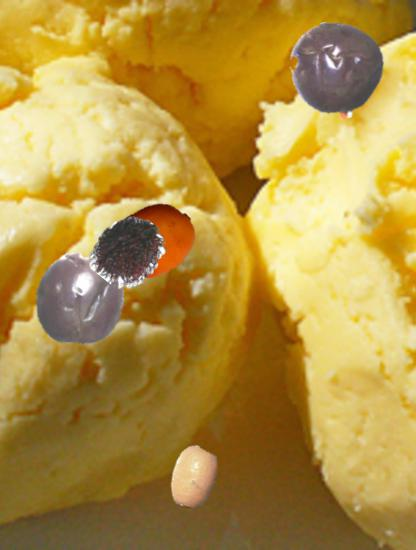Apricot: (114, 199, 196, 281)
Kumquats: (163, 446, 225, 508)
Passion: (289, 20, 389, 120), (32, 250, 129, 347)
Rambutan: (92, 215, 166, 289)
